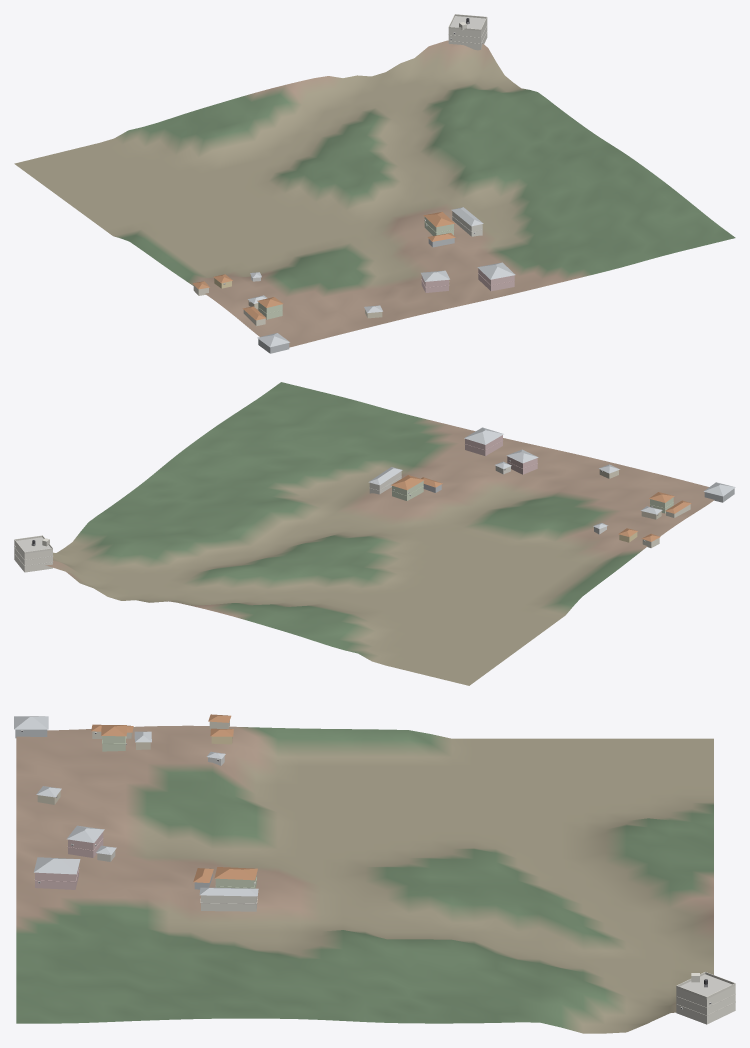
The picture shows the model from 3 angles, top to bottom: view 1: azimuth 30°, elevation 25°; view 2: azimuth 150°, elevation 25°; view 3: azimuth 270°, elevation 25°; orthographic projection. The views are drawn at different scales.
Parts seen in each view (by area): view 1: Terrain-col, Buildings-col, Details; view 2: Terrain-col, Buildings-col, Details; view 3: Terrain-col, Buildings-col, Details.
Boxes of the visible parts, x1,y1,x2,y2 form: Terrain-col: [14, 40, 735, 347]; Buildings-col: [193, 16, 515, 353]; Details: [223, 14, 514, 313]; Terrain-col: [45, 382, 714, 685]; Buildings-col: [14, 427, 735, 572]; Details: [14, 440, 673, 565]; Terrain-col: [16, 725, 713, 1033]; Buildings-col: [14, 714, 735, 1024]; Details: [21, 722, 735, 1015].
Bounding box in the file's own units: 268 × 20.06 × 265.
